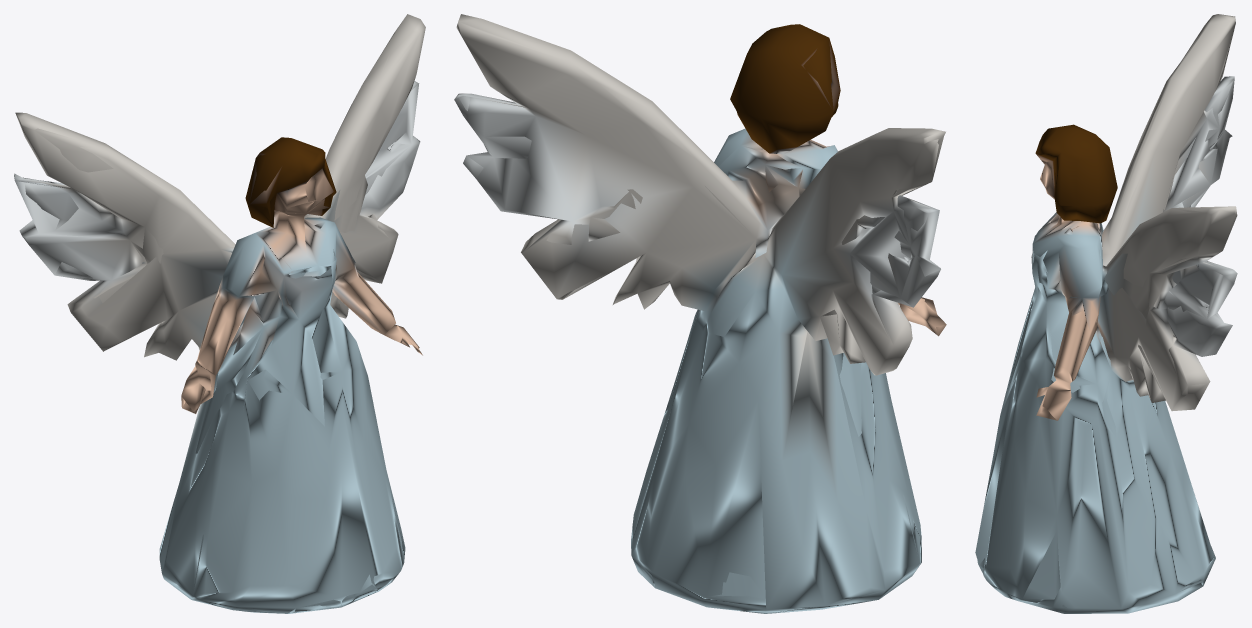
Rendered from gen3d-angel-lod0.glb.
3 renders of one model, left to right at view 1: azimuth 30°, elevation 25°; view 2: azimuth 150°, elevation 25°; view 3: azimuth 270°, elevation 25°, orthographic. The views are drawn at different scales.
Parts seen in each view (by area): view 1: part_0; view 2: part_0; view 3: part_0.
Boxes of the visible parts, x1,y1,x2,y2 form: part_0: (14, 14, 425, 613); part_0: (454, 14, 946, 613); part_0: (975, 14, 1237, 613).
Size of the model in its own units: 0.9332 by 0.9991 by 0.5217.
